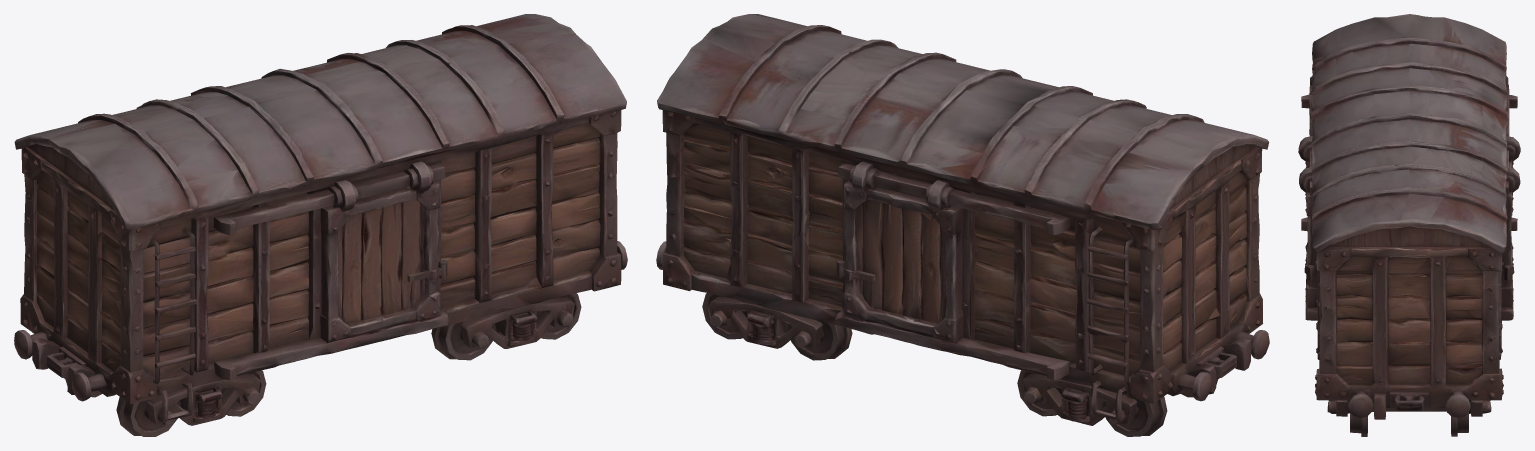
File: train_freight.glb
3 views of the same model, side by side, from view 1: azimuth 30°, elevation 25°; view 2: azimuth 150°, elevation 25°; view 3: azimuth 270°, elevation 25° (orthographic). The views are drawn at different scales.
Visible parts, largest first — view 1: body, door_front, wheel_1, wheel_5, wheel_7; view 2: body, door_back, wheel_2, wheel_6, wheel_8; view 3: body, door_front, door_back, wheel_7, wheel_8.
Part boxes in pixels (x1,y1,x2,y2): body: [14, 14, 627, 425]; door_front: [316, 165, 438, 338]; wheel_1: [116, 397, 184, 436]; wheel_5: [431, 321, 499, 360]; wheel_7: [536, 293, 581, 339]; body: [656, 14, 1269, 425]; door_back: [845, 165, 967, 337]; wheel_2: [1099, 396, 1167, 436]; wheel_6: [784, 320, 852, 360]; wheel_8: [702, 293, 747, 339]; body: [1299, 14, 1519, 419]; door_front: [1298, 144, 1312, 301]; door_back: [1506, 136, 1520, 301]; wheel_7: [1348, 399, 1367, 436]; wheel_8: [1451, 400, 1470, 436].
Size of the model in its own units: 7 by 3.44 by 2.91.
Materials: 10 (4 with a texture image).
